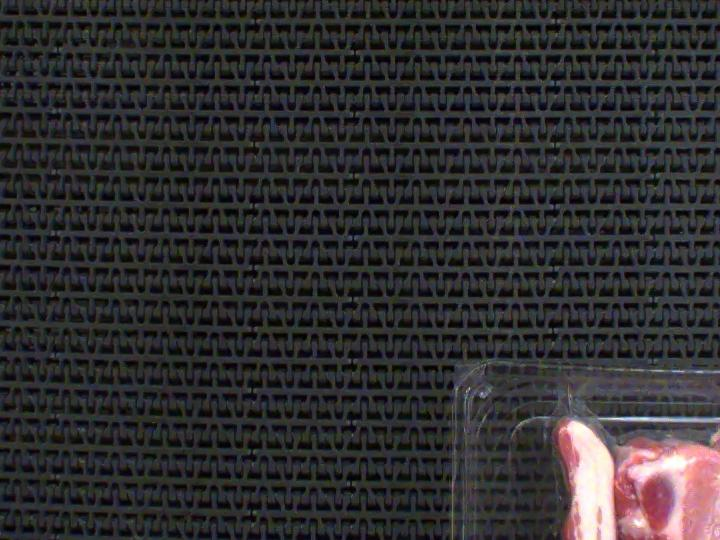unsealed: (532, 391, 720, 490)
